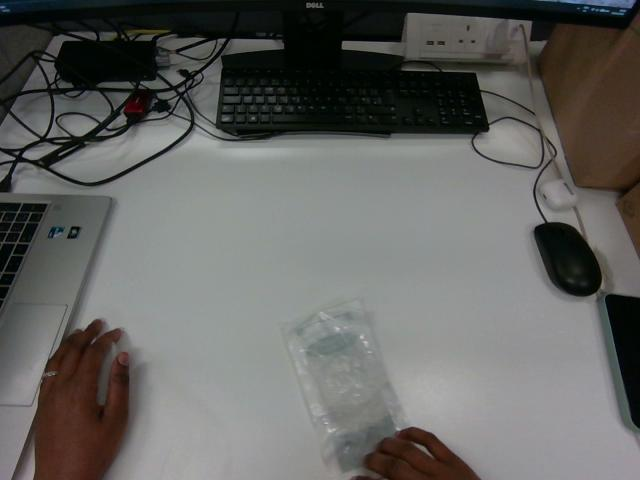gallipot: (283, 301, 407, 478)
